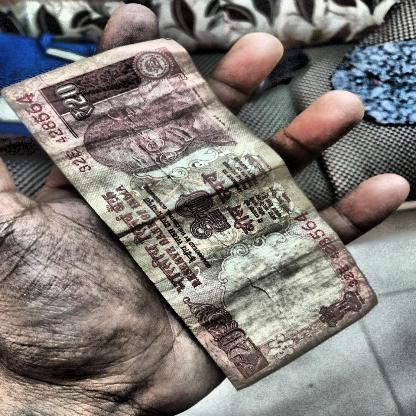Rs20: (208, 322, 278, 386), (41, 77, 106, 127)
